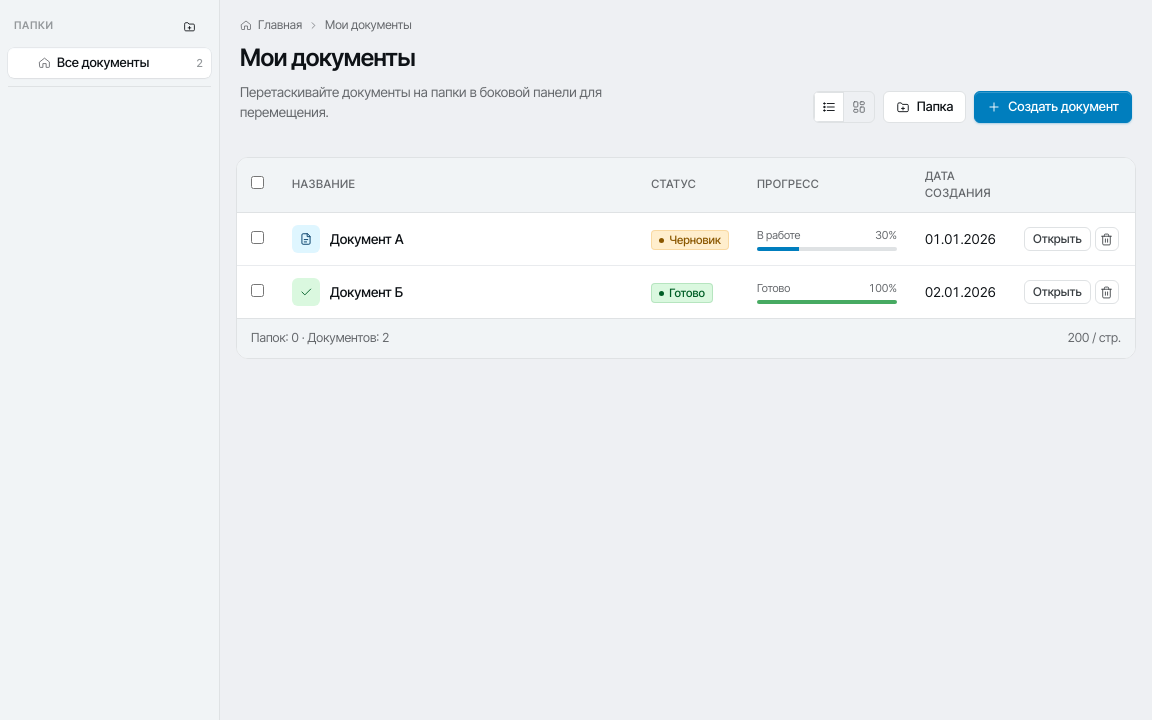
Scenario: DocumentsPage bulk actions (BUG-049) › bulk delete: nothing is deleted before the confirmation is accepted
Expected: the text "Документ А" is shown, [330,229,404,249]
Expected: the text "Документ Б" is shown, [330,282,403,302]
What coordinates should you click on to do the following:
click the checkbox named "Выбрать все документы"
I would click on:
 (258, 182)
Its box is [251,176,264,189].
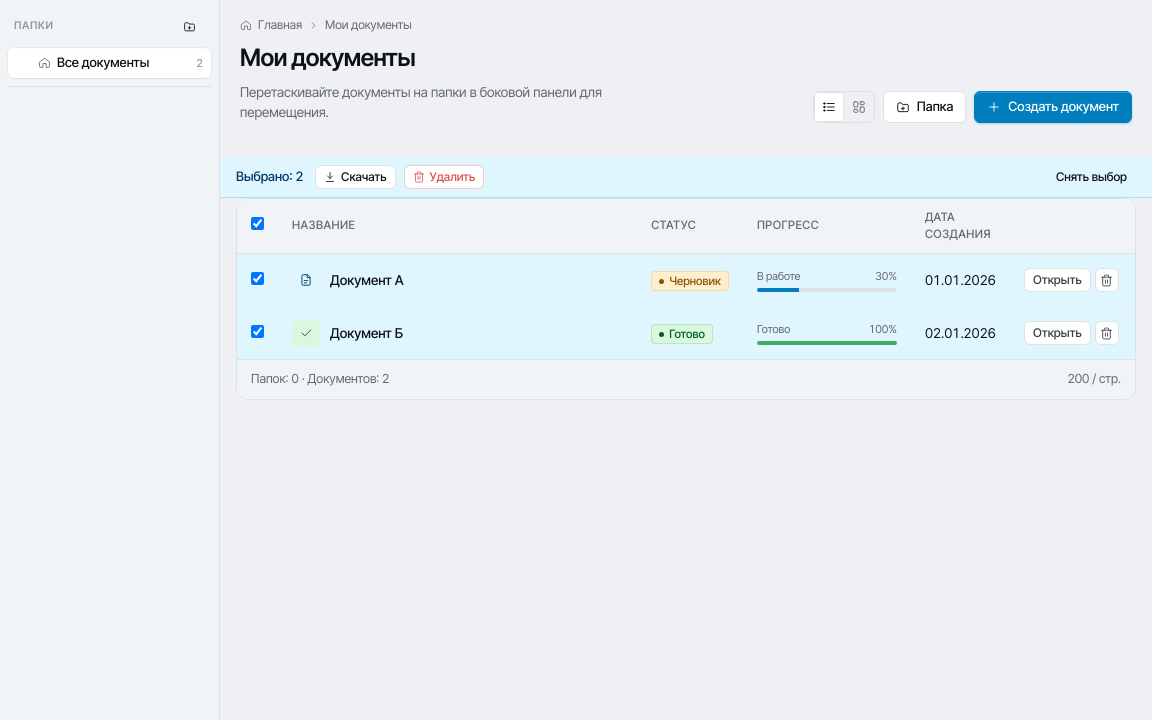
What coordinates should you click on to do the following:
click the button "Удалить"
I would click on:
 (444, 176)
Its box is [404,164,484,188].
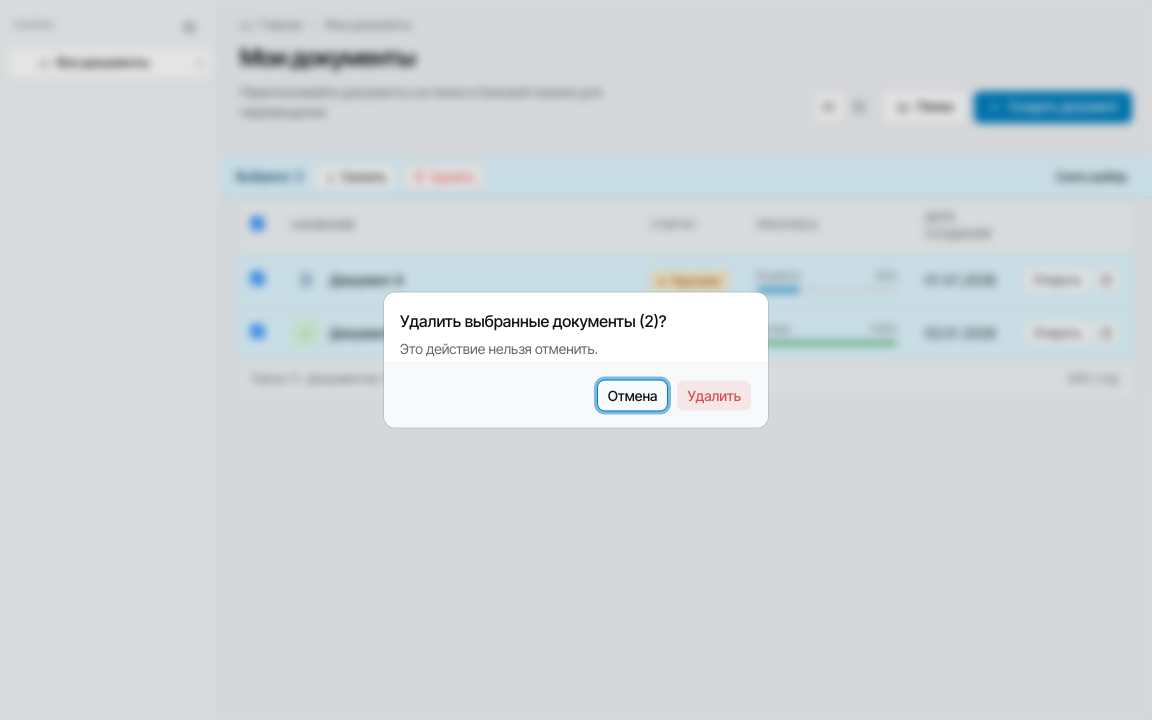
What coordinates should you click on to do the following:
click the button "Отмена"
I would click on:
 (633, 396)
Its box is [597,380,668,412].
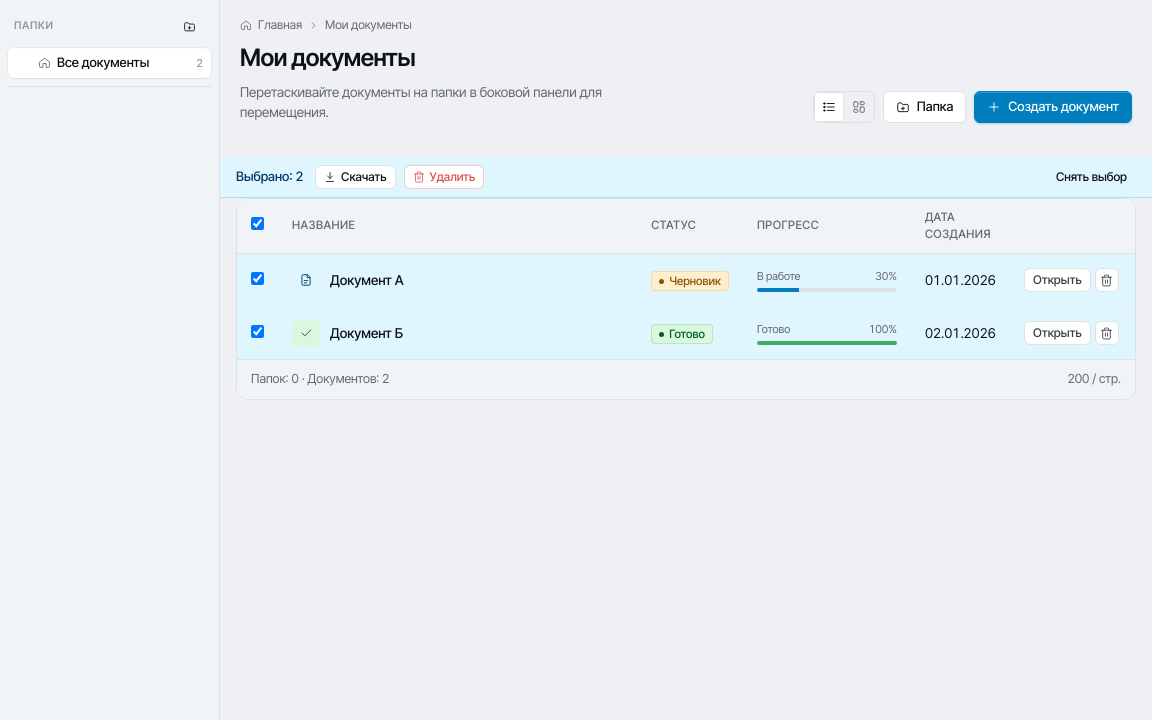
Expected: the dialog is gone
